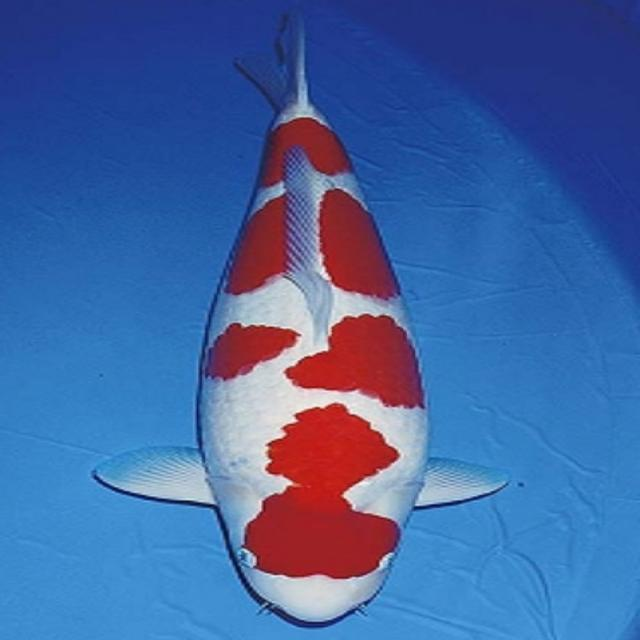Kohaku: (89, 9, 512, 627)
